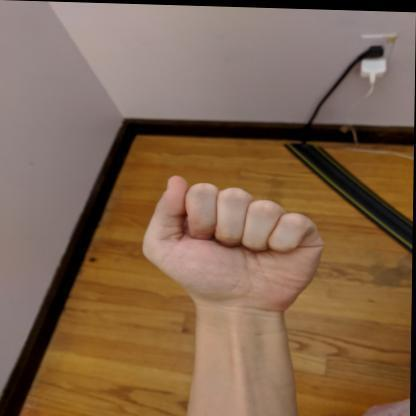A: (136, 171, 332, 320)
